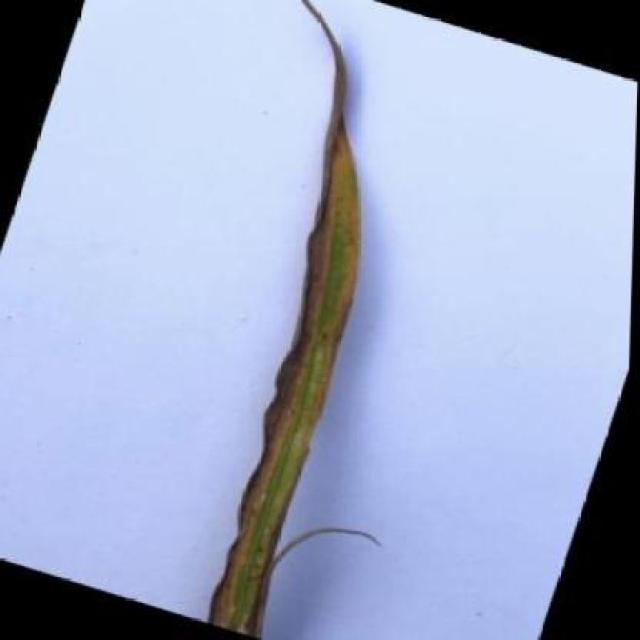Rice False Smut: (192, 100, 437, 638), (161, 0, 393, 100)
